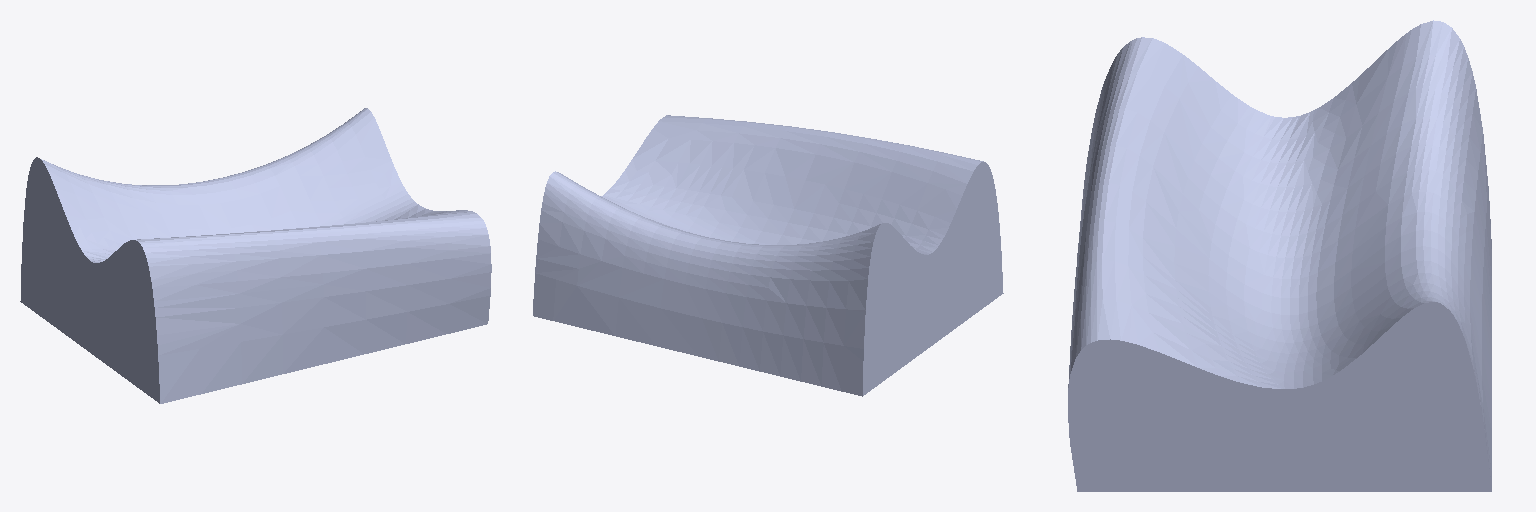
URDF robot description (test_v2):
<?xml version="1.0" encoding="utf-8"?>
<!-- This URDF was automatically created by SolidWorks to URDF Exporter! Originally created by [author] ([email redacted]) 
     Commit Version: 1.6.0-1-g15f4949  Build Version: 1.6.7594.29634
     For more information, please see http://wiki.ros.org/sw_urdf_exporter -->
<robot
  name="test_v2">
  <link
    name="base_link">
    <inertial>
      <origin
        xyz="0.0474516347351378 -0.0391970215661914 0.0142043583835655"
        rpy="0 0 0" />
      <mass
        value="0.193557482322648" />
      <inertia
        ixx="0.000111281682547968"
        ixy="2.77617089946129E-06"
        ixz="7.95411975380814E-06"
        iyy="0.000188577979720393"
        iyz="4.3780875516965E-06"
        izz="0.00026706559594534" />
    </inertial>
    <visual>
      <origin
        xyz="0 0 0"
        rpy="0 0 0" />
      <geometry>
        <mesh
          filename="package://test_v2/meshes/base_link.STL" />
      </geometry>
      <material
        name="">
        <color
          rgba="0.792156862745098 0.819607843137255 0.933333333333333 1" />
      </material>
    </visual>
    <collision>
      <origin
        xyz="0 0 0"
        rpy="0 0 0" />
      <geometry>
        <mesh
          filename="package://test_v2/meshes/base_link.STL" />
      </geometry>
    </collision>
  </link>
</robot>

--- Render facts (derived) ---
3 views of the same robot in one strip: view 1: azimuth 30°, elevation 25°; view 2: azimuth 150°, elevation 25°; view 3: azimuth 270°, elevation 25° (orthographic).
Model test_v2 with 1 links and 0 joints (none), rooted at base_link, posed all joints at 0.
Visible links, largest first — view 1: base_link; view 2: base_link; view 3: base_link.
Boxes of the visible links, box(x1,y1,x2,y2) form: base_link: box(20, 108, 491, 403); base_link: box(533, 115, 1003, 396); base_link: box(1068, 20, 1491, 491).
Bounding box of the posed robot: 0.1 × 0.0757 × 0.046 m (x, y, z).
1 mesh visuals loaded from 1 distinct referenced files (1 binary STL).